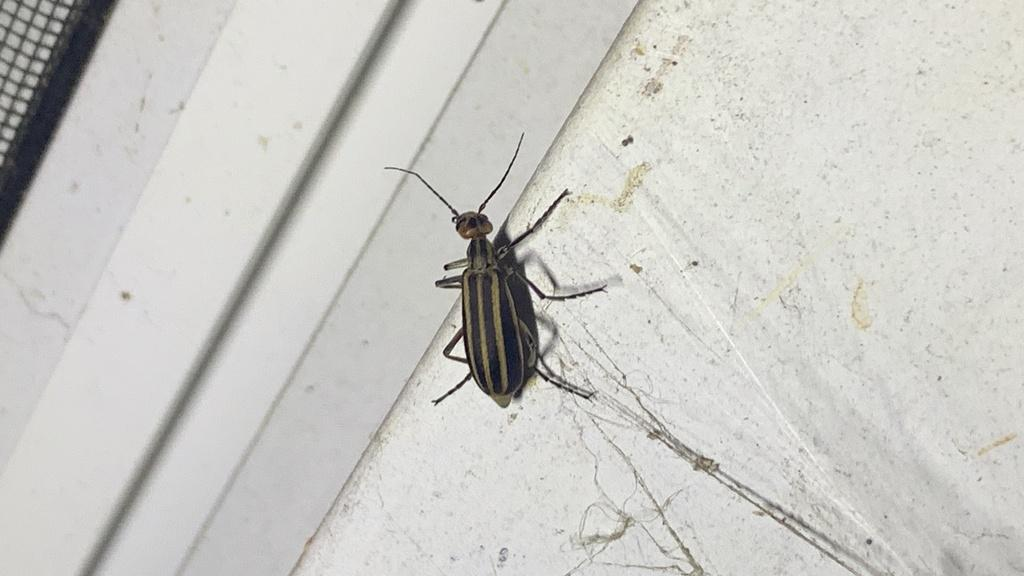blister_beetle: (362, 106, 636, 453)
